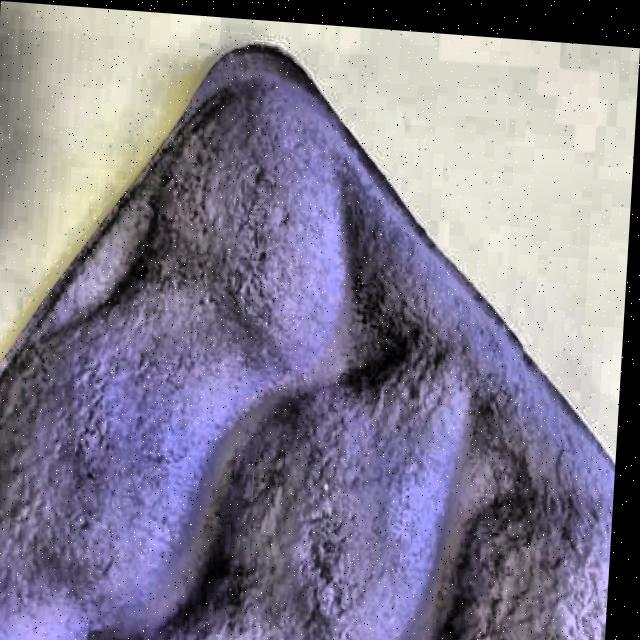paper: (0, 20, 639, 640)
